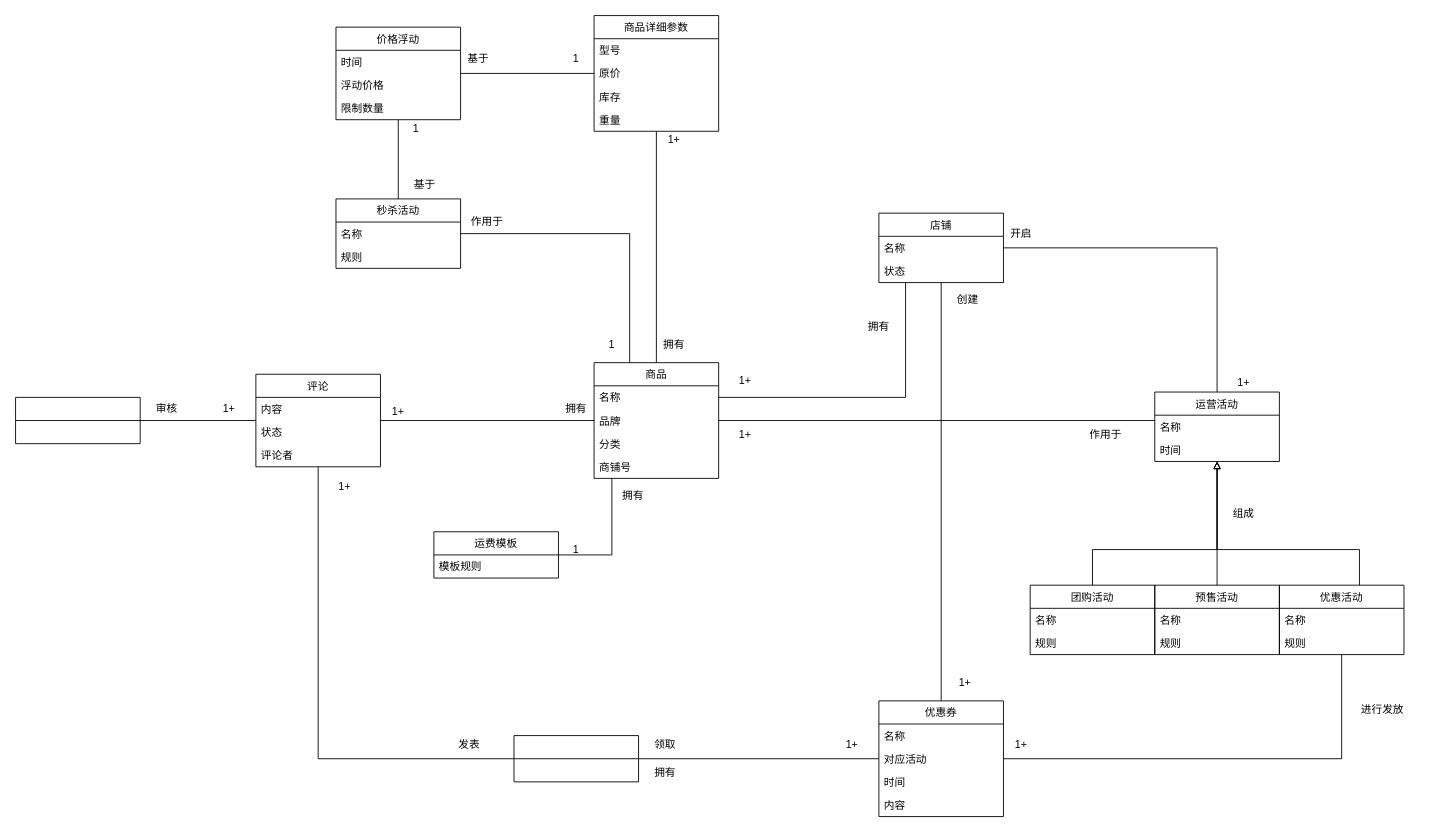
Some shapes in this 1429 by 835 pixel diagram are drawn without their labels. The shapes that lost their labels are listed below. From the top down, each one's centre as x and y in pixels, then its label:
At [77,420]: "平台管理员".
At [576,758]: "顾客".
